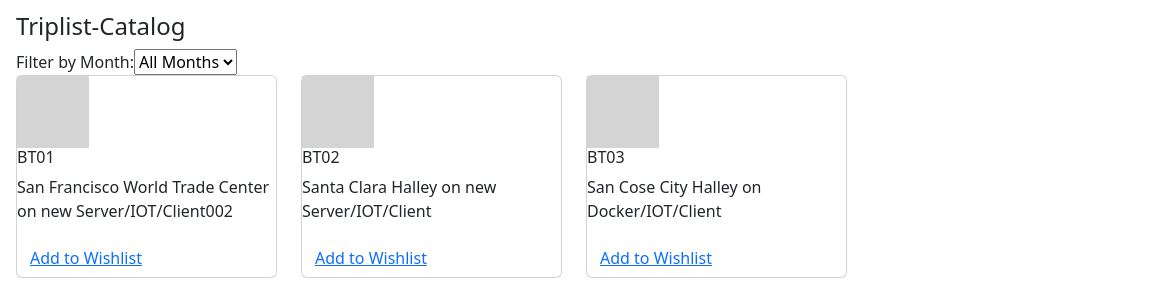
TripList Component › displays an empty message when no trips match the filter
Select "January" in the dropdown with id "month" at (186, 62), box [134, 49, 237, 75]
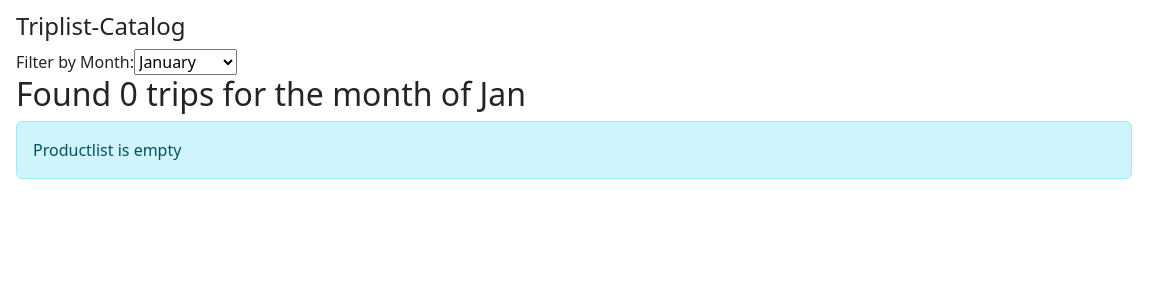
Now the text "Productlist is empty" is shown, box [16, 121, 1132, 179]
